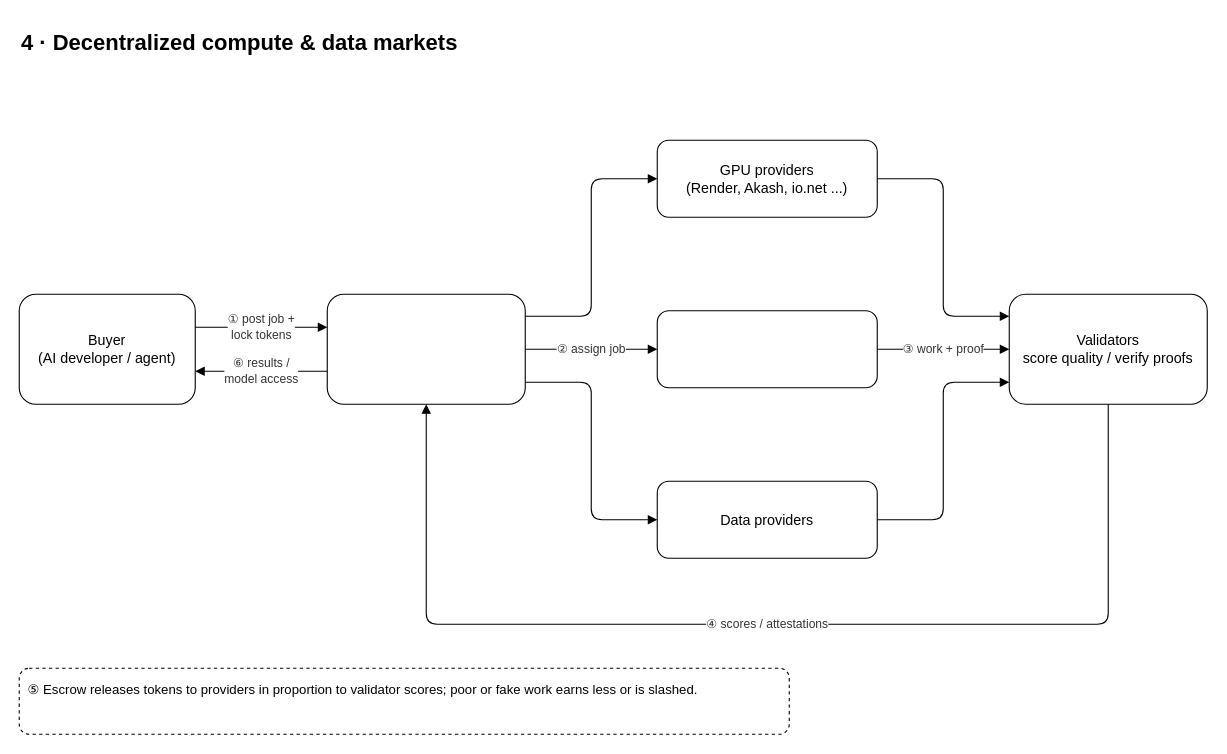
Some shapes in this 1227 by 754 pixel diagram are drawn without their labels. Each missing label, with the centre of its shape:
"Marketplace + escrow contract" belongs at (425,348).
"Model miners (Bittensor subnets)" belongs at (766,349).
